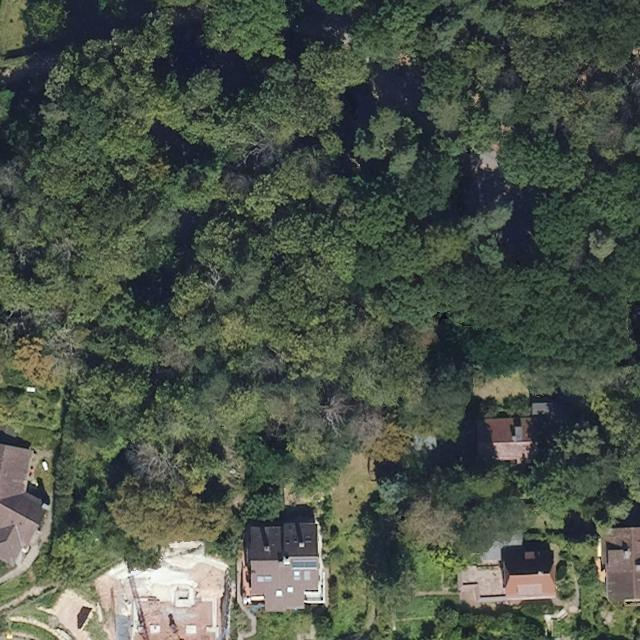PV: (291, 561, 318, 568)
